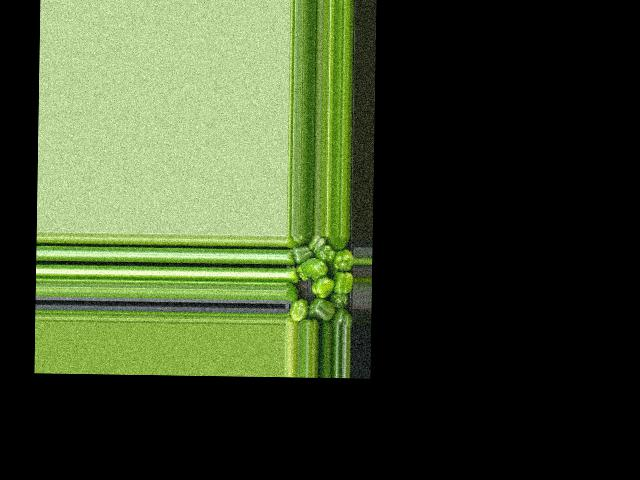bell_pepper: (325, 235, 344, 250)
